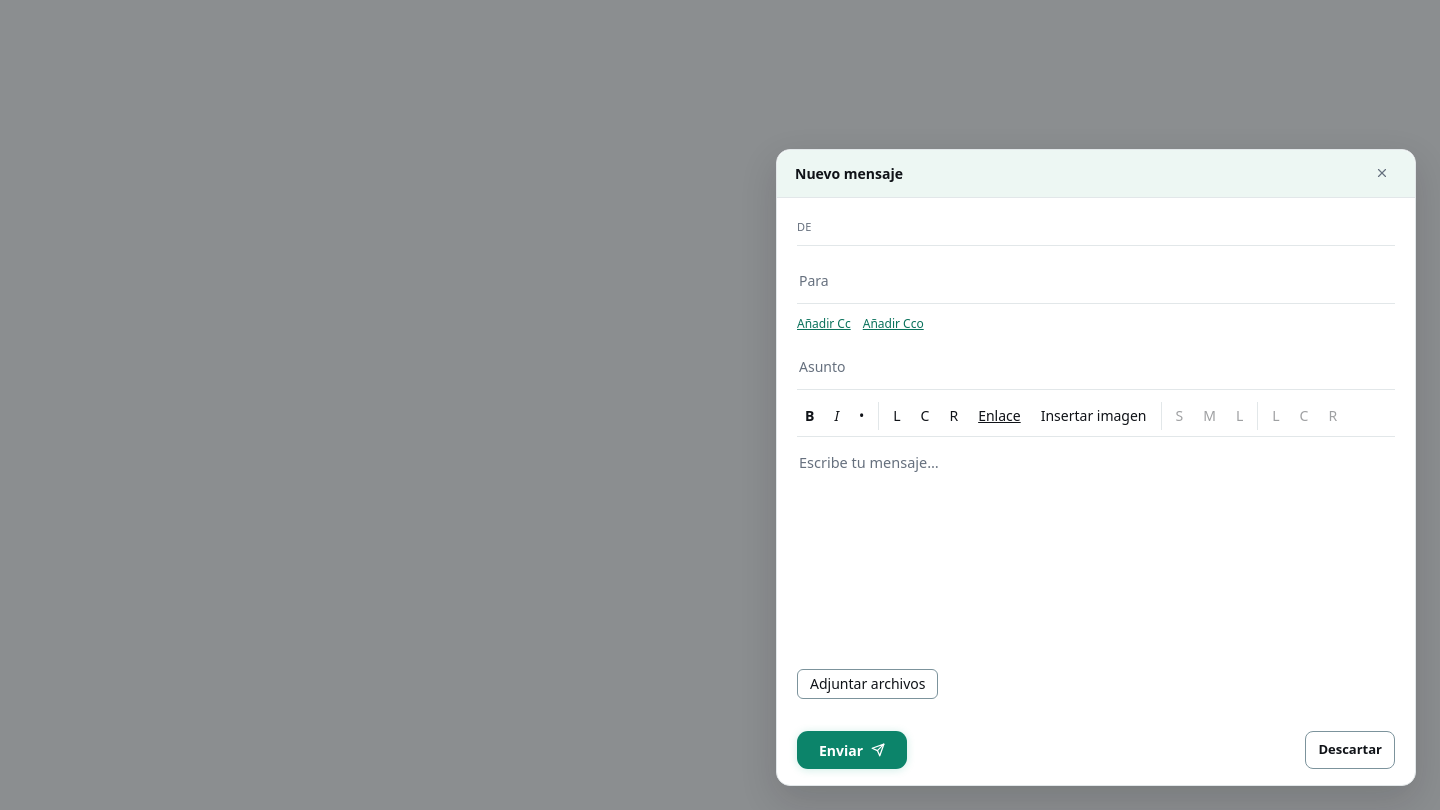
Test: Composer › shows an inline hint and does not add a chip for an invalid email
Type "not-an-email" into the dropdown labelled "Para" at (1096, 280), box [797,270,1395,291]
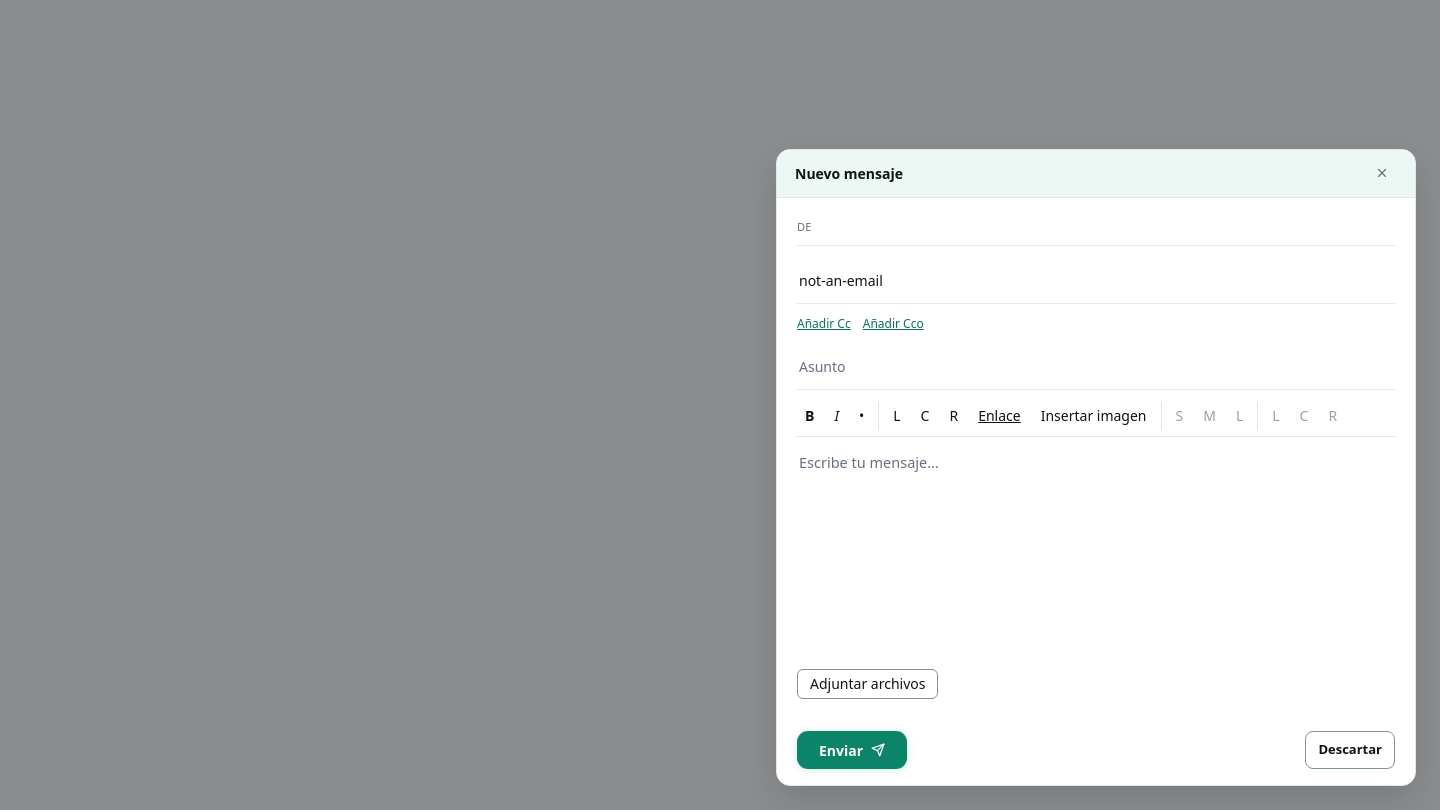
Press Enter in the dropdown named "Para", box [797,270,1395,291]
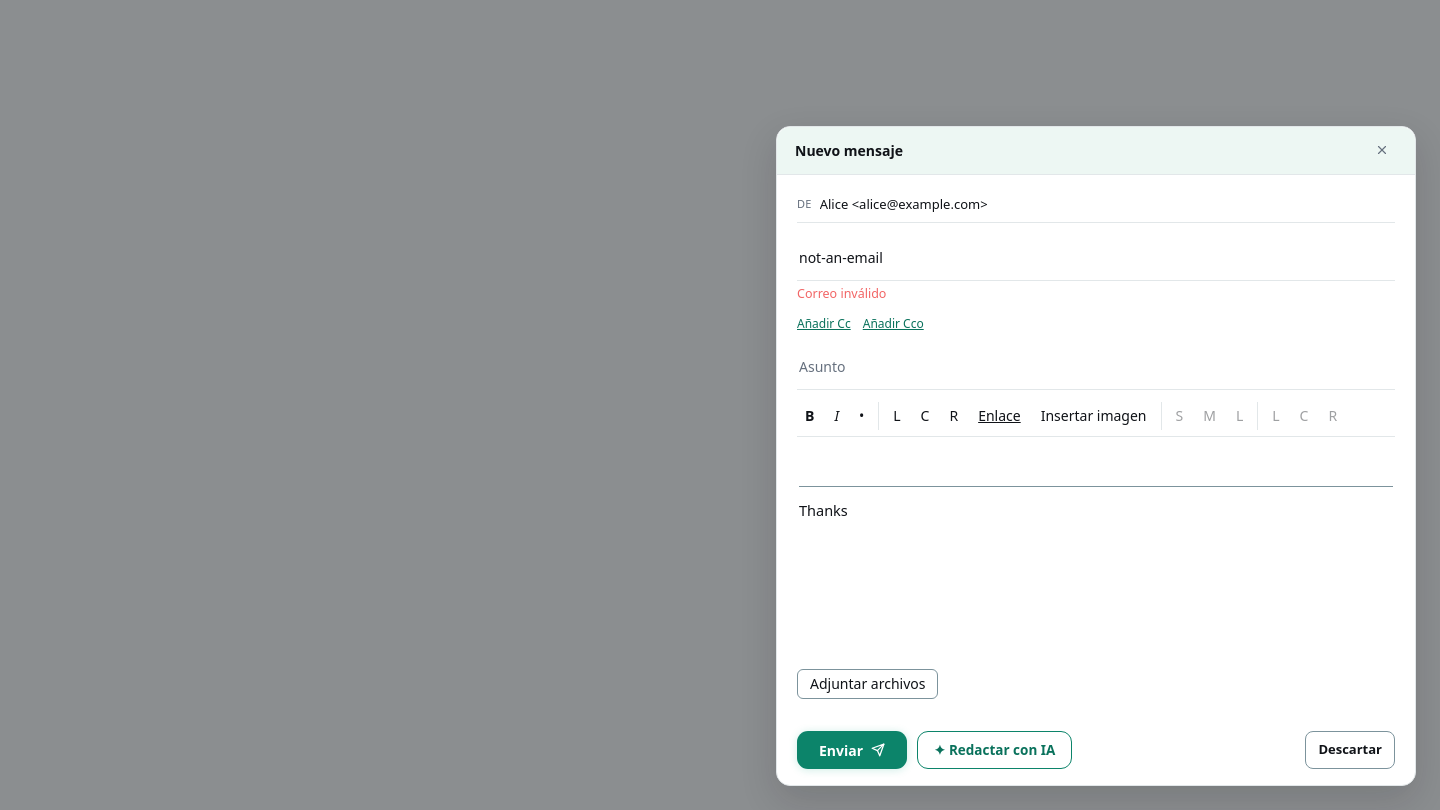
Expected: the text "Correo inválido" is shown, [797,285,886,302]
